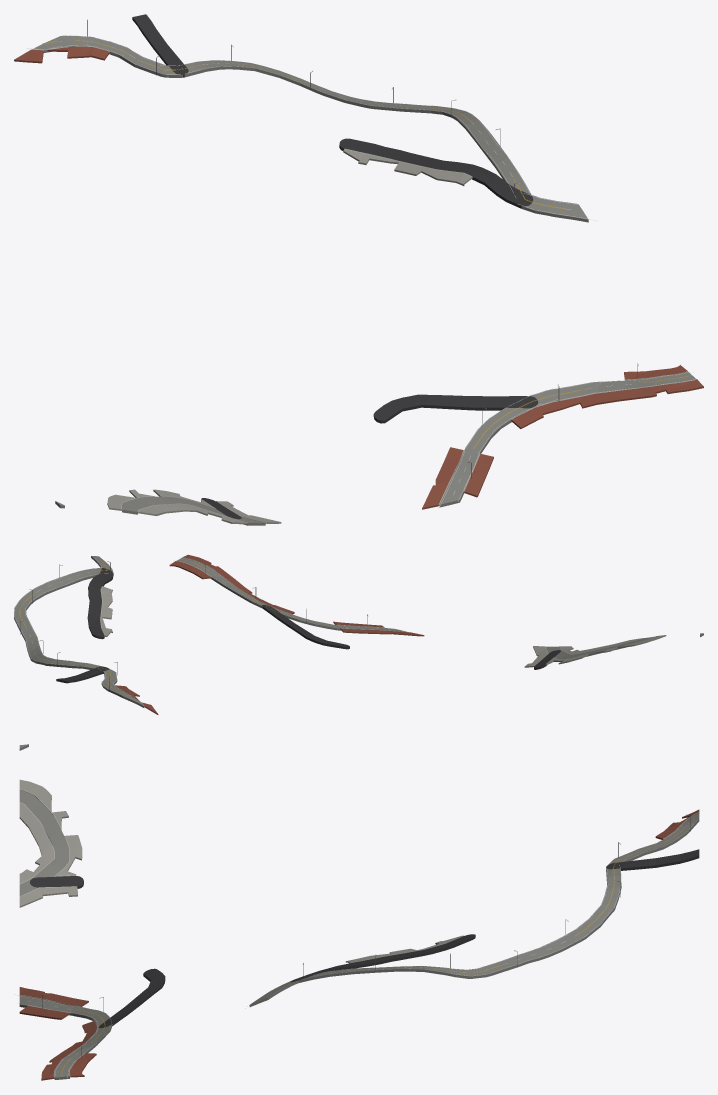
3 renders of one model, top to bottom at view 1: azimuth 30°, elevation 25°; view 2: azimuth 150°, elevation 25°; view 3: azimuth 270°, elevation 25°, orthographic. The views are drawn at different scales.
Bounding box in the file's own units: 296 × 90.37 × 296.
